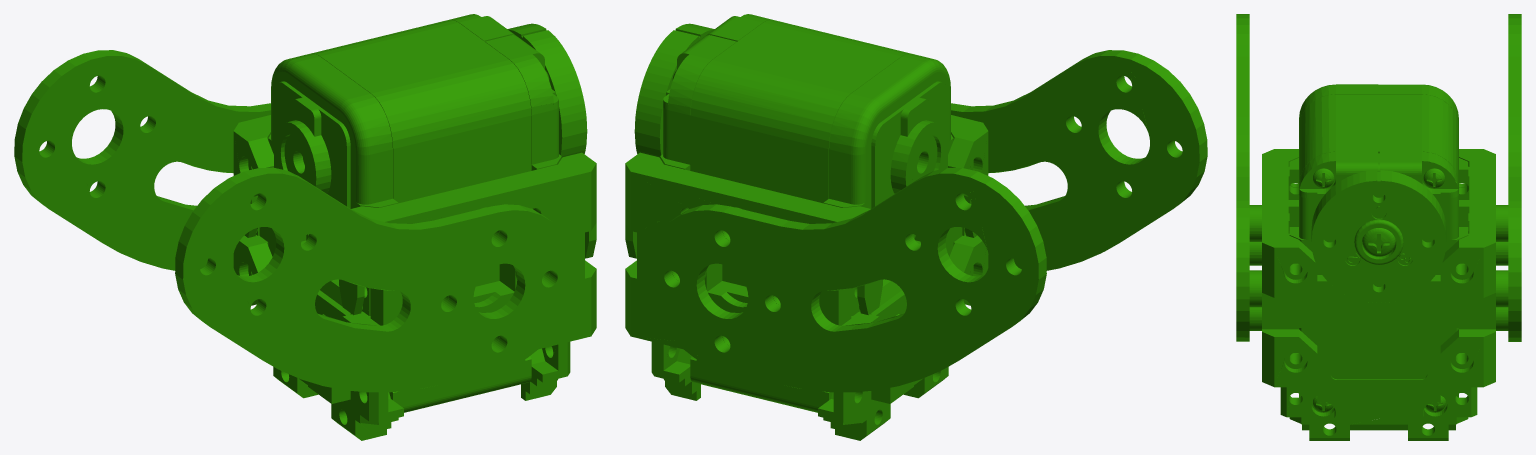
Rendered from brazo5.dae.
3 views of the same model, side by side, from view 1: azimuth 30°, elevation 25°; view 2: azimuth 150°, elevation 25°; view 3: azimuth 270°, elevation 25° (orthographic). The views are drawn at different scales.
Parts seen in each view (by area): view 1: link6; view 2: link6; view 3: link6.
Boxes of the visible parts, x1=… form: link6: x1=14, y1=14, x2=596, y2=440; link6: x1=625, y1=14, x2=1207, y2=440; link6: x1=1236, y1=14, x2=1521, y2=440.
Bounding box in the file's own units: 0.0721 × 0.0464 × 0.0505.
